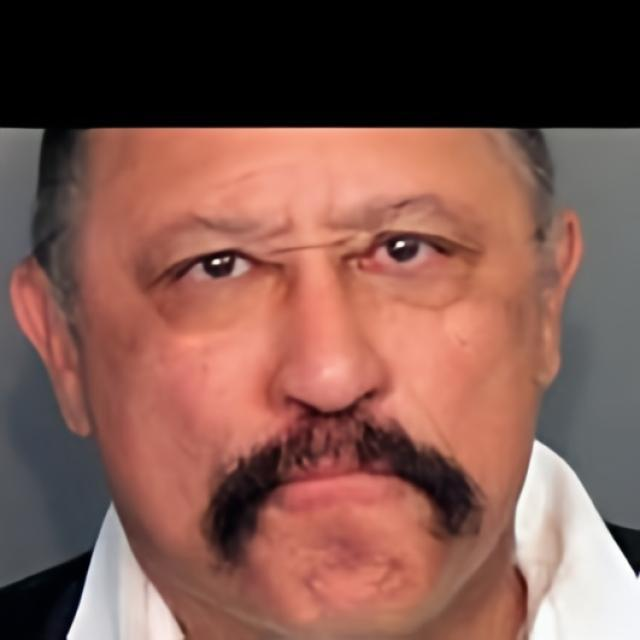anger: (90, 142, 548, 630)
